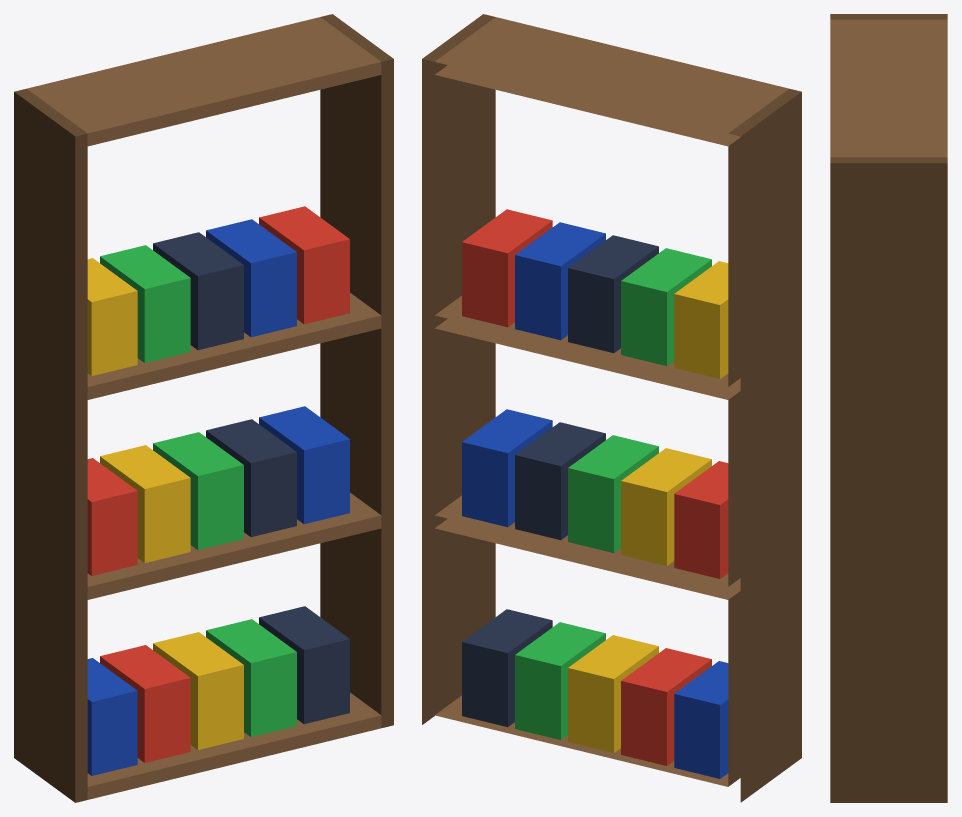
Rendered from prop_shelf_discs.obj.
The picture shows the model from 3 angles, left to right: view 1: azimuth 30°, elevation 25°; view 2: azimuth 150°, elevation 25°; view 3: azimuth 270°, elevation 25°; orthographic projection. The views are drawn at different scales.
Parts seen in each view (by area): view 1: prop_shelf_discs; view 2: prop_shelf_discs; view 3: prop_shelf_discs.
Part boxes in pixels (left/top/right/bottom): prop_shelf_discs: left=14, top=14, right=393, bottom=802; prop_shelf_discs: left=422, top=14, right=801, bottom=802; prop_shelf_discs: left=830, top=14, right=947, bottom=802.
Size of the model in its own units: 0.9 by 1.8 by 0.3.
